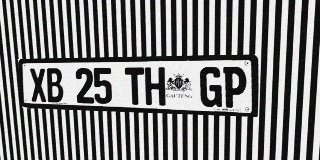2: (75, 68, 94, 103)
5: (93, 68, 113, 104)
B: (45, 68, 64, 103)
G: (200, 67, 222, 107)
H: (145, 67, 165, 106)
P: (223, 67, 247, 108)
T: (125, 67, 145, 105)
X: (29, 68, 47, 102)
